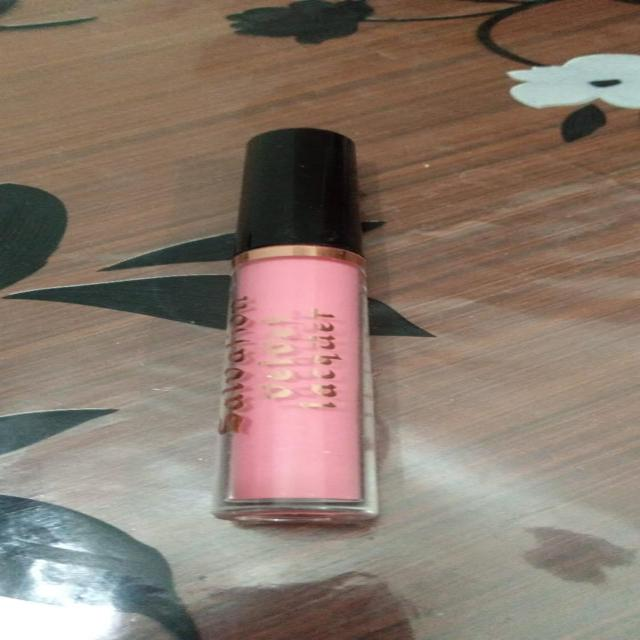lip gloss: (188, 112, 410, 542)
